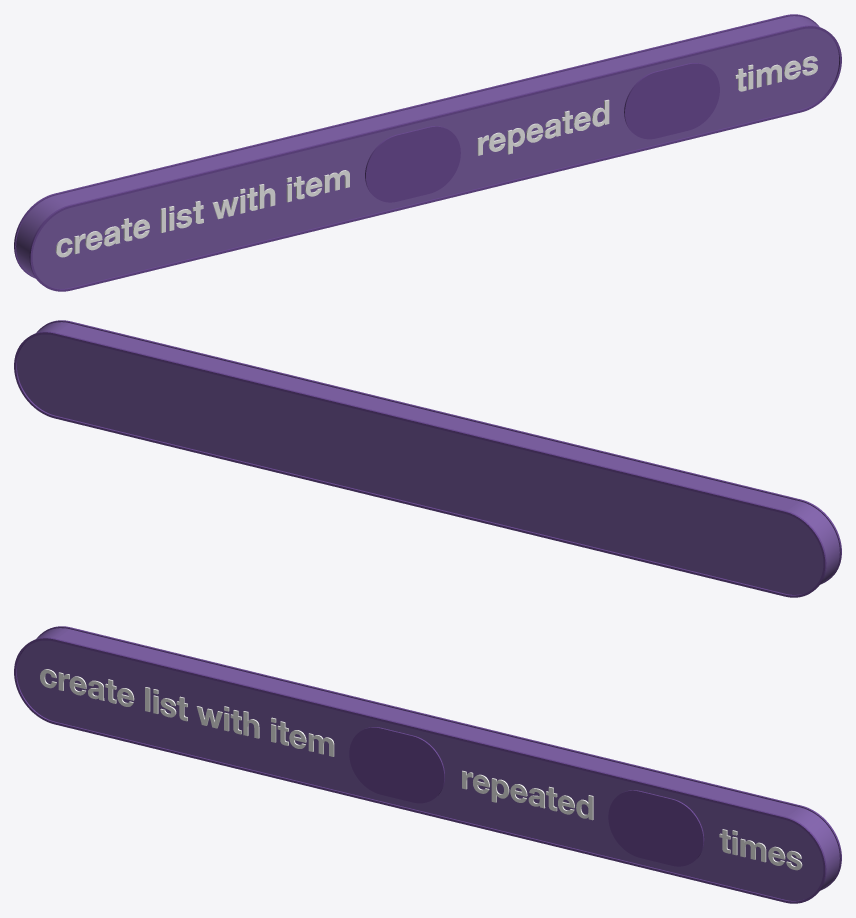
The model's file is lists_repeat.gltf.
The picture shows the model from 3 angles, top to bottom: view 1: azimuth 30°, elevation 25°; view 2: azimuth 150°, elevation 25°; view 3: azimuth 330°, elevation 25°; orthographic projection.
Visible parts, largest first — view 1: Extrude.34, Extrude.33, Extrude.1, Extrude, Extrude.35; view 2: Extrude.34, Extrude.35, Extrude.33; view 3: Extrude.34, Extrude.33, Extrude, Extrude.1, Extrude.35.
Part boxes in pixels (x1,y1,x2,y2): Extrude.34: [16, 16, 838, 288]; Extrude.33: [29, 25, 841, 291]; Extrude.1: [365, 126, 460, 202]; Extrude: [624, 63, 719, 139]; Extrude.35: [14, 14, 818, 277]; Extrude.34: [17, 322, 839, 594]; Extrude.35: [14, 331, 826, 597]; Extrude.33: [37, 320, 841, 583]; Extrude.34: [17, 628, 839, 900]; Extrude.33: [14, 637, 826, 903]; Extrude: [608, 790, 704, 866]; Extrude.1: [349, 727, 444, 803]; Extrude.35: [37, 626, 841, 889].
Bounding box in the file's own units: 2.06 × 0.2063 × 0.073.
